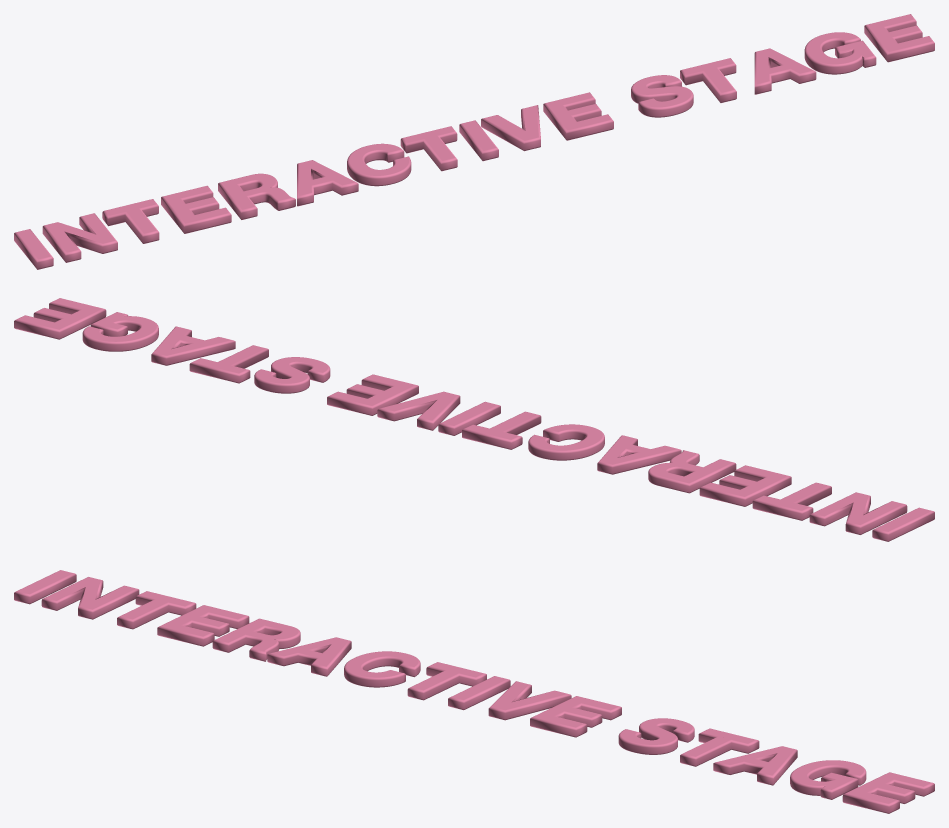
Rendered from interactive stage_text.fbx.
3 views of the same model, one above another, from view 1: azimuth 30°, elevation 25°; view 2: azimuth 150°, elevation 25°; view 3: azimuth 330°, elevation 25° (orthographic). The views are drawn at different scales.
Parts seen in each view (by area): view 1: PRODUCTION IMAGES.002; view 2: PRODUCTION IMAGES.002; view 3: PRODUCTION IMAGES.002.
Boxes of the visible parts, x1=… form: PRODUCTION IMAGES.002: x1=14, y1=14, x2=934, y2=269; PRODUCTION IMAGES.002: x1=14, y1=298, x2=934, y2=541; PRODUCTION IMAGES.002: x1=14, y1=570, x2=934, y2=813.
Bounding box in the file's own units: 947 × 10 × 66.7.
